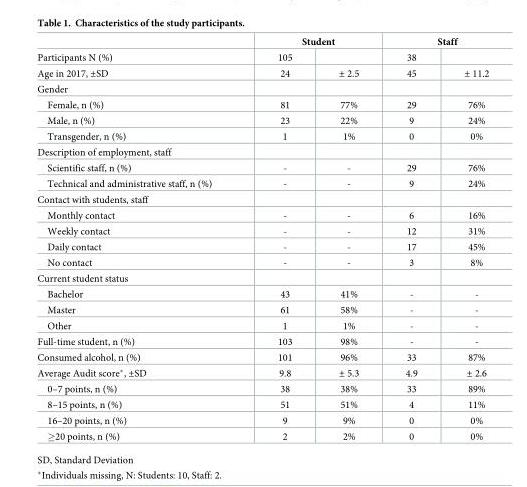table: (36, 36, 488, 448)
table column: (36, 36, 244, 448), (244, 36, 314, 448), (314, 36, 381, 448), (381, 36, 440, 448), (440, 36, 488, 448)
table column header: (36, 36, 488, 64)
table projected row header: (36, 191, 488, 207), (36, 270, 488, 286), (36, 81, 488, 96), (36, 144, 488, 159)
table row: (36, 428, 488, 448), (36, 64, 488, 81), (36, 364, 488, 381), (36, 96, 488, 112), (36, 112, 488, 128), (36, 128, 488, 144), (36, 159, 488, 175), (36, 175, 488, 191), (36, 191, 488, 207), (36, 207, 488, 223), (36, 238, 488, 254), (36, 254, 488, 270), (36, 270, 488, 286), (36, 301, 488, 317), (36, 317, 488, 333), (36, 333, 488, 349), (36, 396, 488, 412), (36, 412, 488, 428), (36, 49, 488, 64), (36, 81, 488, 96), (36, 144, 488, 159), (36, 223, 488, 238), (36, 286, 488, 301), (36, 349, 488, 364), (36, 381, 488, 396), (36, 36, 488, 49)
table spanning cell: (36, 36, 244, 64), (244, 36, 381, 49), (381, 36, 488, 49)
